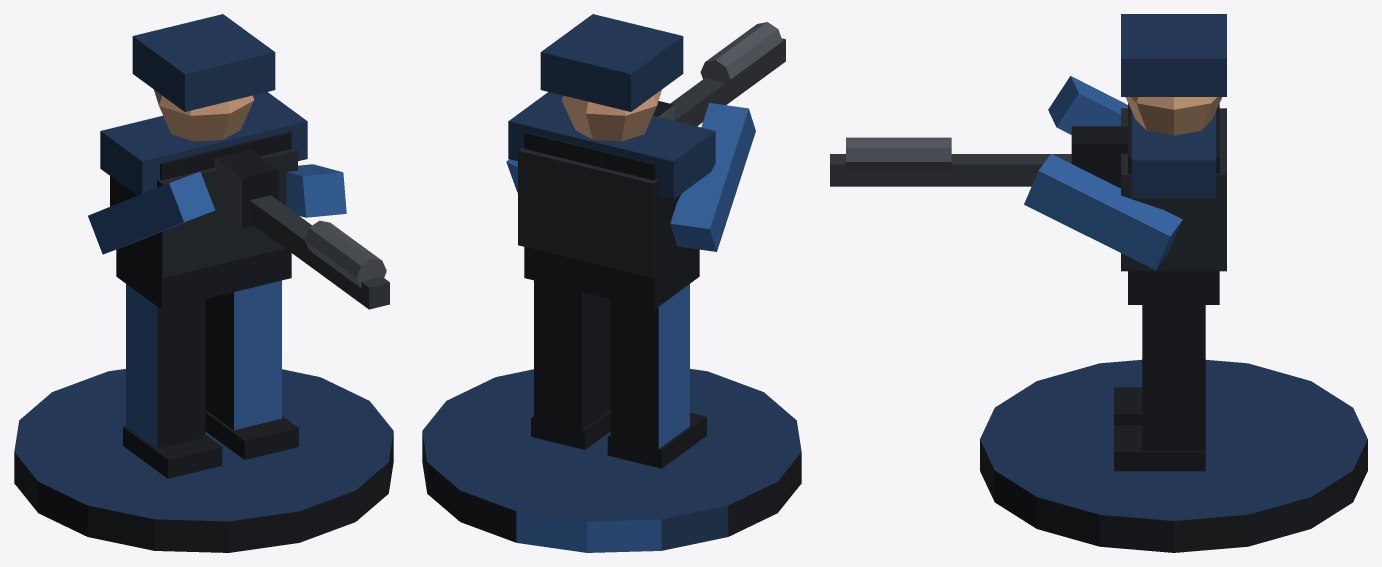
The model's file is police_marksman.glb.
The picture shows the model from 3 angles, left to right: view 1: azimuth 30°, elevation 25°; view 2: azimuth 150°, elevation 25°; view 3: azimuth 270°, elevation 25°; orthographic projection.
Visible parts, largest first — view 1: police_marksman; view 2: police_marksman; view 3: police_marksman.
Boxes of the visible parts, <box> form: police_marksman: <box>14,14,393,552</box>; police_marksman: <box>422,14,801,552</box>; police_marksman: <box>830,14,1367,552</box>.
Size of the model in its own units: 1.1 by 1.36 by 1.53.
